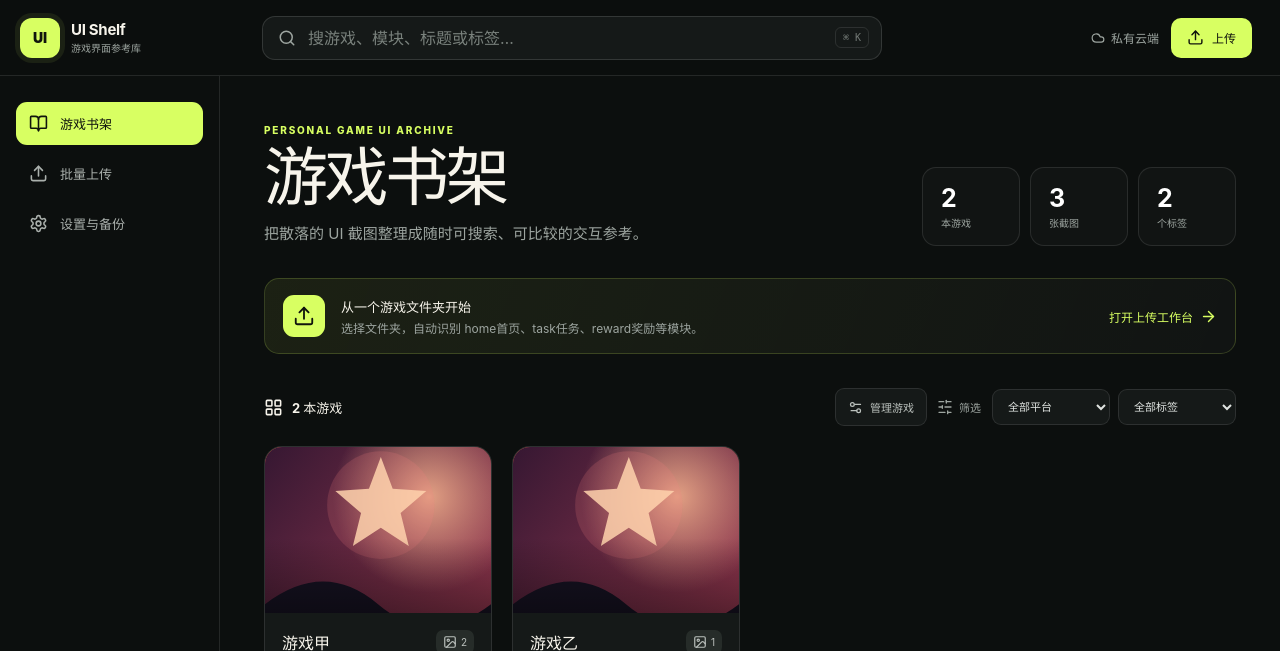
Test: bookshelf game management › offers whole-game deletion from shelf management mode but never inside a book
Expected: the heading "游戏书架" is shown, x1=264 y1=138 x2=506 y2=215
What coordinates should you click on to do the following:
click the button "管理游戏"
I would click on:
 (881, 407)
Its box is x1=835 y1=388 x2=927 y2=426.
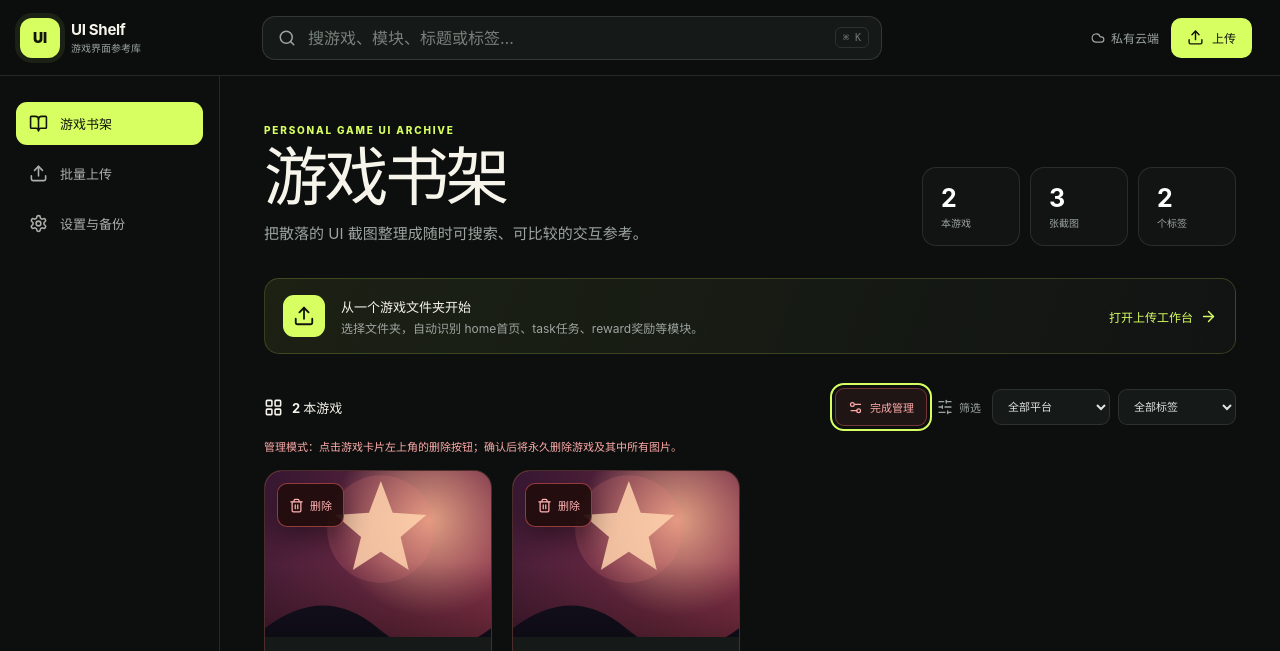
Expected: the button with aria-label "删除游戏 游戏甲" is shown, x1=277 y1=483 x2=344 y2=527
Expected: the button with aria-label "删除游戏 游戏乙" is shown, x1=525 y1=483 x2=592 y2=527
What coordinates should you click on to do the following:
click the link named "打开 游戏甲"
I would click on:
 (378, 554)
Its box is x1=265 y1=471 x2=491 y2=637.
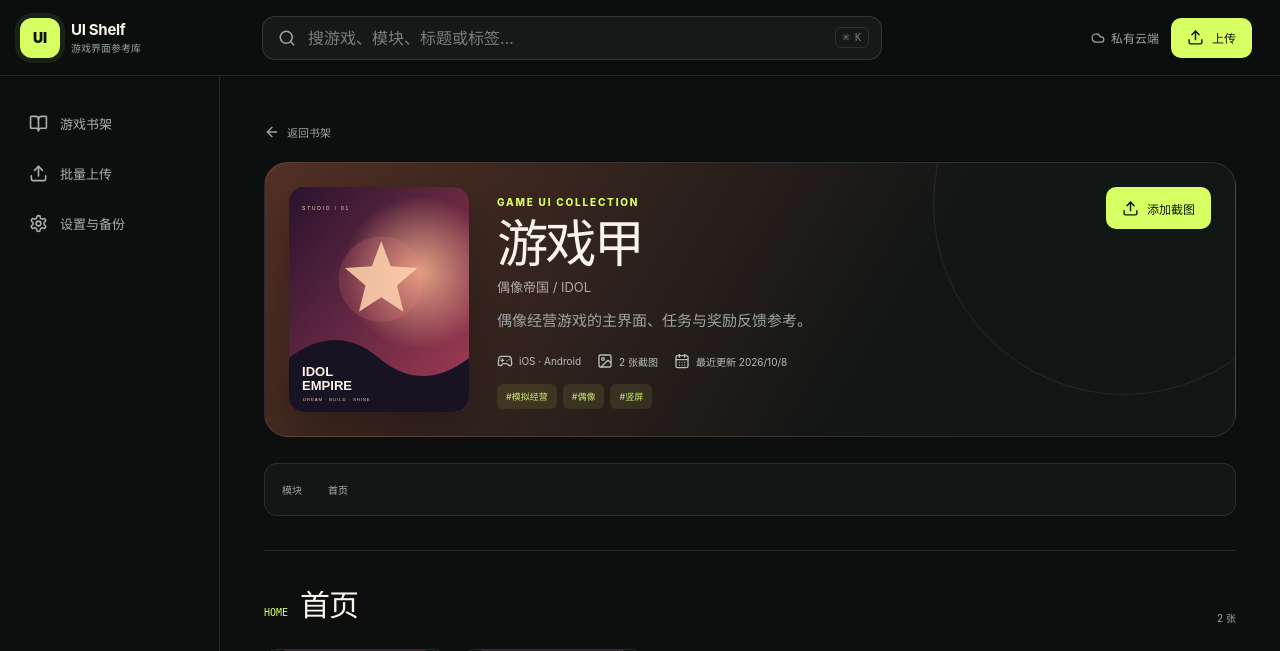
Expected: the heading "游戏甲" is shown, x1=497 y1=212 x2=642 y2=274
Expected: the text "删除游戏" is gone
